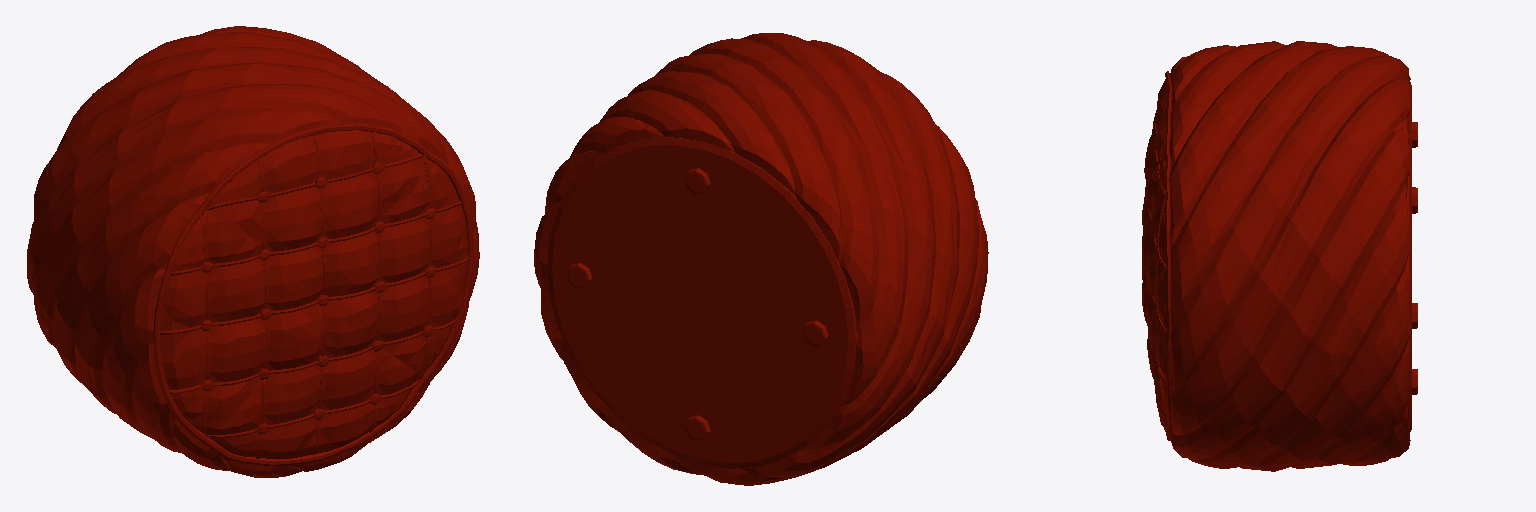
Rendered from pouf.obj.
3 views of the same model, side by side, from view 1: azimuth 30°, elevation 25°; view 2: azimuth 150°, elevation 25°; view 3: azimuth 270°, elevation 25° (orthographic).
Size of the model in its own units: 0.9247 by 0.9265 by 0.5946.